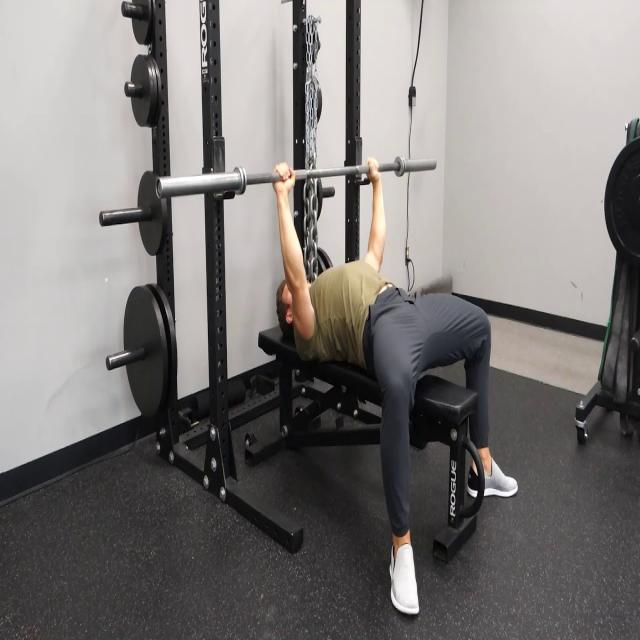bench: (148, 135, 524, 625)
